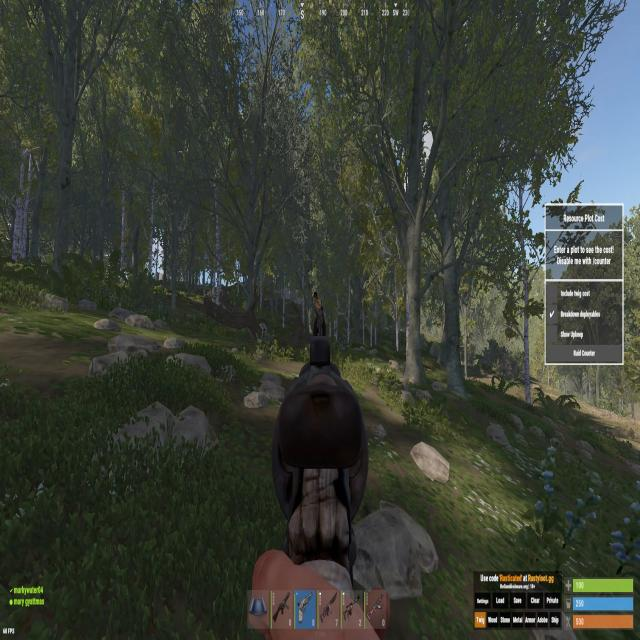Player: (311, 290, 324, 336)
